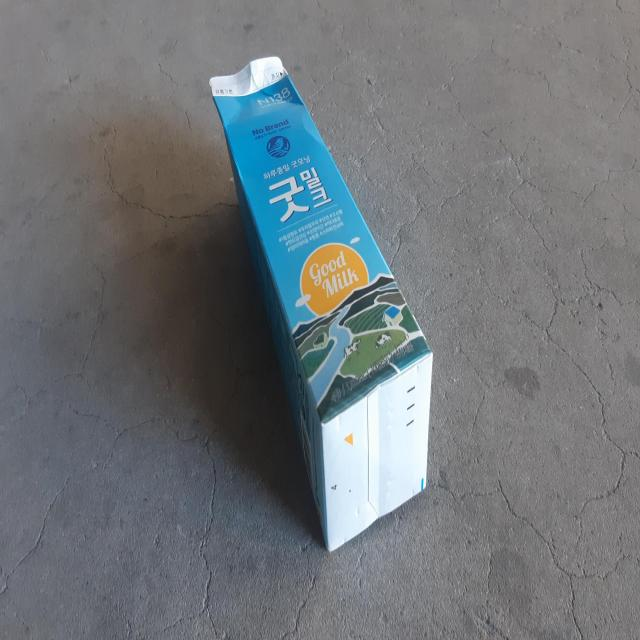paperpack: (210, 55, 433, 551)
